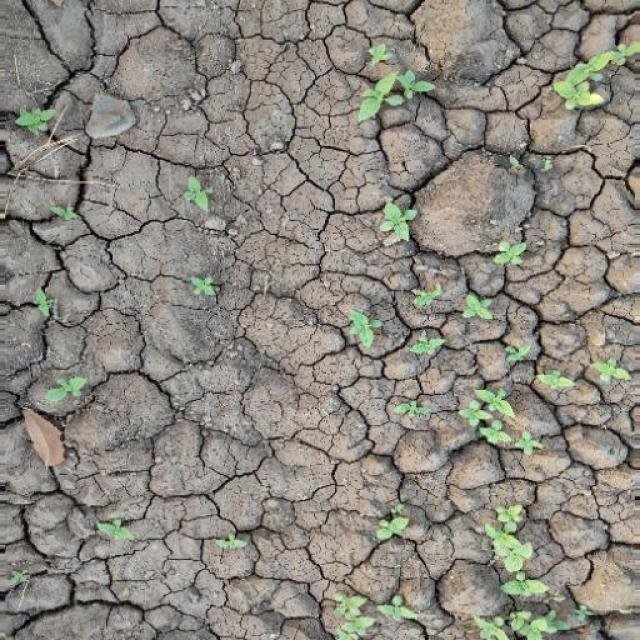crop: (330, 40, 439, 125), (456, 380, 545, 470), (476, 497, 552, 602), (542, 38, 640, 112), (365, 198, 424, 250), (176, 170, 219, 221), (40, 367, 90, 408), (344, 302, 384, 352), (372, 506, 412, 545), (458, 289, 493, 326), (181, 272, 220, 300)
